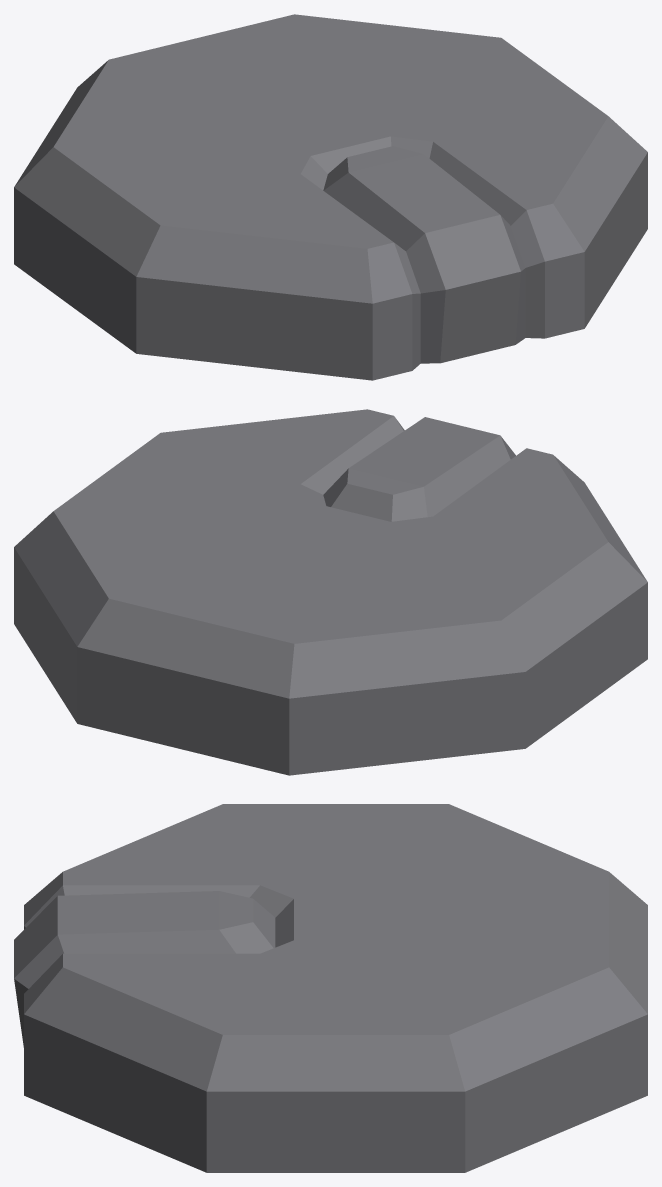
File: SM_Prop_Radar_Panel_01.glb
The picture shows the model from 3 angles, top to bottom: view 1: azimuth 30°, elevation 25°; view 2: azimuth 150°, elevation 25°; view 3: azimuth 270°, elevation 25°; orthographic projection. The views are drawn at different scales.
Parts seen in each view (by area): view 1: SM_Prop_Radar_Panel_01; view 2: SM_Prop_Radar_Panel_01; view 3: SM_Prop_Radar_Panel_01.
Part boxes in pixels (x1=…): SM_Prop_Radar_Panel_01: x1=14, y1=14, x2=647, y2=380; SM_Prop_Radar_Panel_01: x1=14, y1=409, x2=647, y2=775; SM_Prop_Radar_Panel_01: x1=14, y1=804, x2=647, y2=1172.
Size of the model in its own units: 0.8088 by 0.1869 by 0.8218.
1 material, 1 textured.
